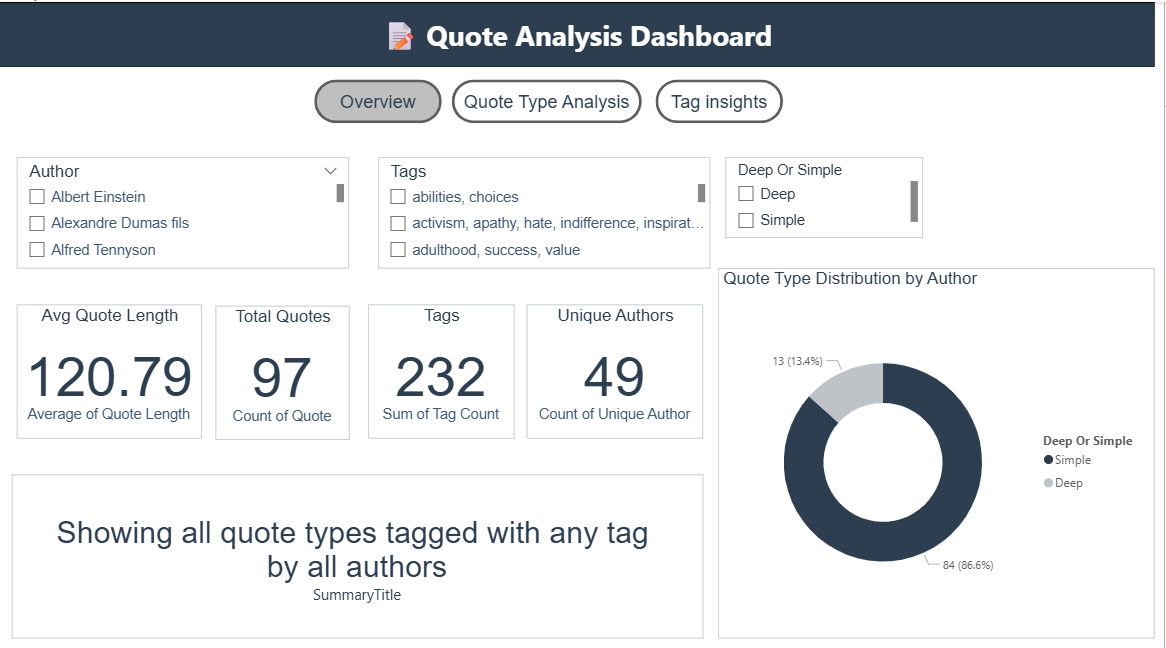

What the dashboard file says about the page in this screenshot:
{"tool":"powerbi","page":{"name":"Overview","canvas":[1280,720],"ordinal":1},"visuals":[{"type":"actionButton","box":[347.2,85.1,140,48],"z":0},{"type":"actionButton","box":[498.1,85.1,208.6,48],"z":1000},{"type":"actionButton","box":[721.8,85.1,140,48],"z":2000},{"type":"shape","box":[0,0,1269.9,71.6],"z":3000},{"type":"card","title":"Avg Quote Length","fields":{"Values":["Clean Quote data.Quote Length"]},"box":[20.6,332.1,203.1,146.8],"z":5000},{"type":"card","title":"Total Quotes","fields":{"Values":["Clean Quote data.Quote"]},"box":[238.8,333.4,146.8,146.8],"z":6000},{"type":"card","title":"Tags","fields":{"Values":["Clean Quote data.Tag Count"]},"box":[406.2,332.1,160.5,146.8],"z":7000},{"type":"card","title":"Unique Authors","fields":{"Values":["Clean Quote data.Author"]},"box":[580.4,332.1,193.5,146.8],"z":8000},{"type":"slicer","fields":{"Values":["Clean Quote data.Author"]},"box":[20.6,170.2,365,122.1],"z":9000},{"type":"slicer","fields":{"Values":["Clean Quote data.Tags"]},"box":[417.2,170.2,365,122.1],"z":10000},{"type":"slicer","fields":{"Values":["Clean Quote data.Deep Or Simple"]},"box":[798.6,170.2,216.8,89.2],"z":11000},{"type":"donutChart","title":"Quote Type Distribution by Author","fields":{"Category":["Clean Quote data.Deep Or Simple"],"Y":["Clean Quote data.Deep Or Simple"]},"box":[790.4,292.3,478.9,406.2],"z":12000},{"type":"card","fields":{"Values":["Clean Quote data.SummaryTitle"]},"box":[15.1,518.7,758.8,179.8],"z":13000}]}

Visuals, with their boxes in screenshot pixels (x1, y1, x2, y2), scaled from the page's 1280x720 canvas onto the 1166x648 screenshot:
actionButton: left=316, top=77, right=444, bottom=120
actionButton: left=454, top=77, right=644, bottom=120
actionButton: left=658, top=77, right=785, bottom=120
shape: left=0, top=0, right=1157, bottom=64
"Avg Quote Length" card: left=19, top=299, right=204, bottom=431
"Total Quotes" card: left=218, top=300, right=351, bottom=432
"Tags" card: left=370, top=299, right=516, bottom=431
"Unique Authors" card: left=529, top=299, right=705, bottom=431
slicer - Clean Quote data.Author: left=19, top=153, right=351, bottom=263
slicer - Clean Quote data.Tags: left=380, top=153, right=713, bottom=263
slicer - Clean Quote data.Deep Or Simple: left=727, top=153, right=925, bottom=233
"Quote Type Distribution by Author" donutChart: left=720, top=263, right=1156, bottom=629
card - Clean Quote data.SummaryTitle: left=14, top=467, right=705, bottom=629
